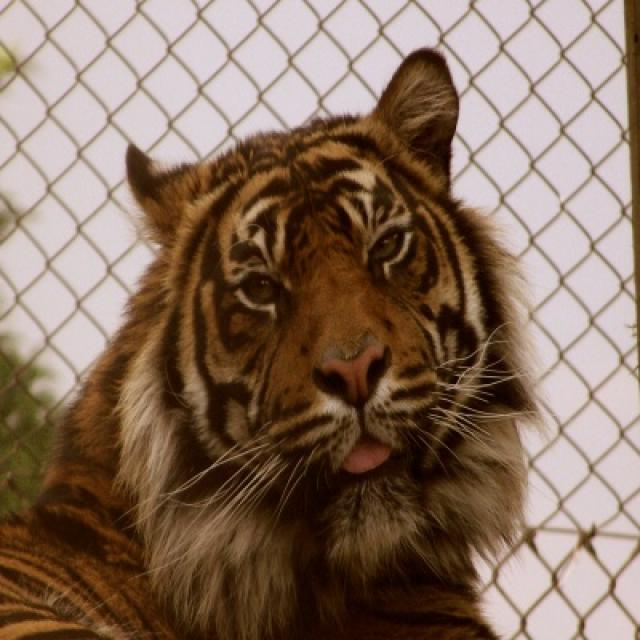Tiger: (0, 38, 535, 638)
